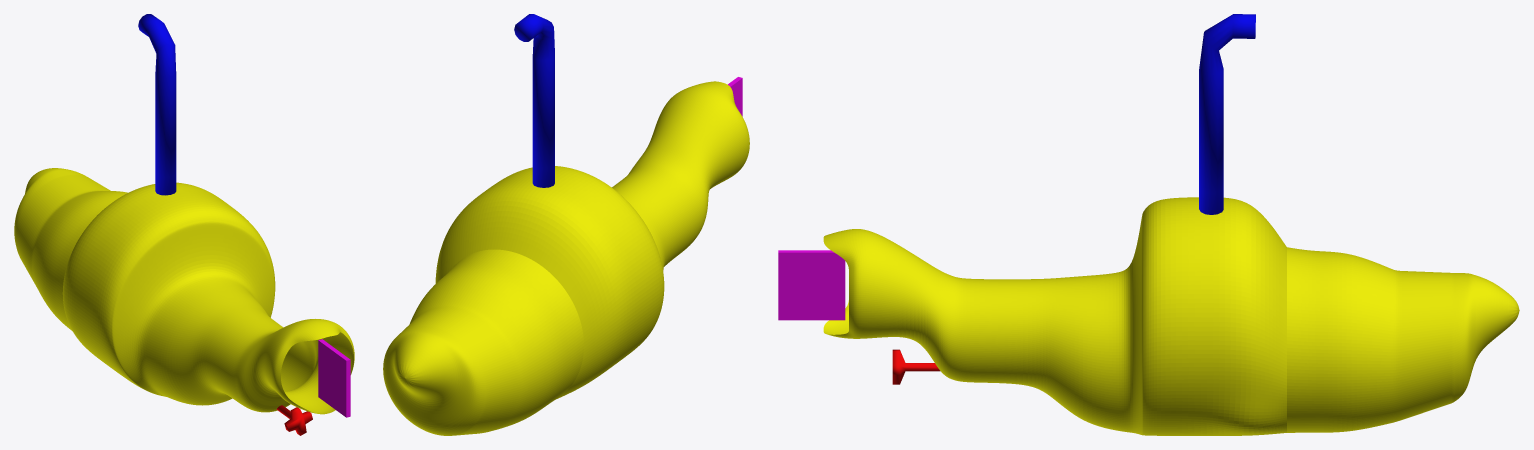
Rendered from yellowsubmarine.fbx.
The picture shows the model from 3 angles, left to right: view 1: azimuth 30°, elevation 25°; view 2: azimuth 150°, elevation 25°; view 3: azimuth 270°, elevation 25°; orthographic projection. The views are drawn at different scales.
Visible parts, largest first — view 1: Submarine, Periscope, Rudder, Propeller; view 2: Submarine, Periscope; view 3: Submarine, Periscope, Rudder, Propeller.
Boxes of the visible parts, x1,y1,x2,y2 form: Submarine: (14,168,354,414); Periscope: (138,14,176,195); Rudder: (318,339,350,417); Propeller: (276,405,312,435); Submarine: (383,81,749,435); Periscope: (514,14,554,187); Submarine: (823,197,1519,435); Periscope: (1199,14,1255,214); Rudder: (778,250,845,320); Propeller: (892,349,940,384).
Bounding box in the file's own units: 213 × 405 × 662.
